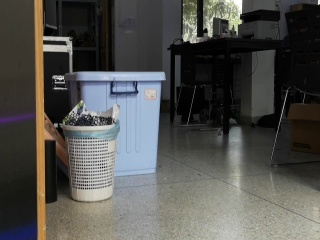room: (7, 6, 304, 240)
